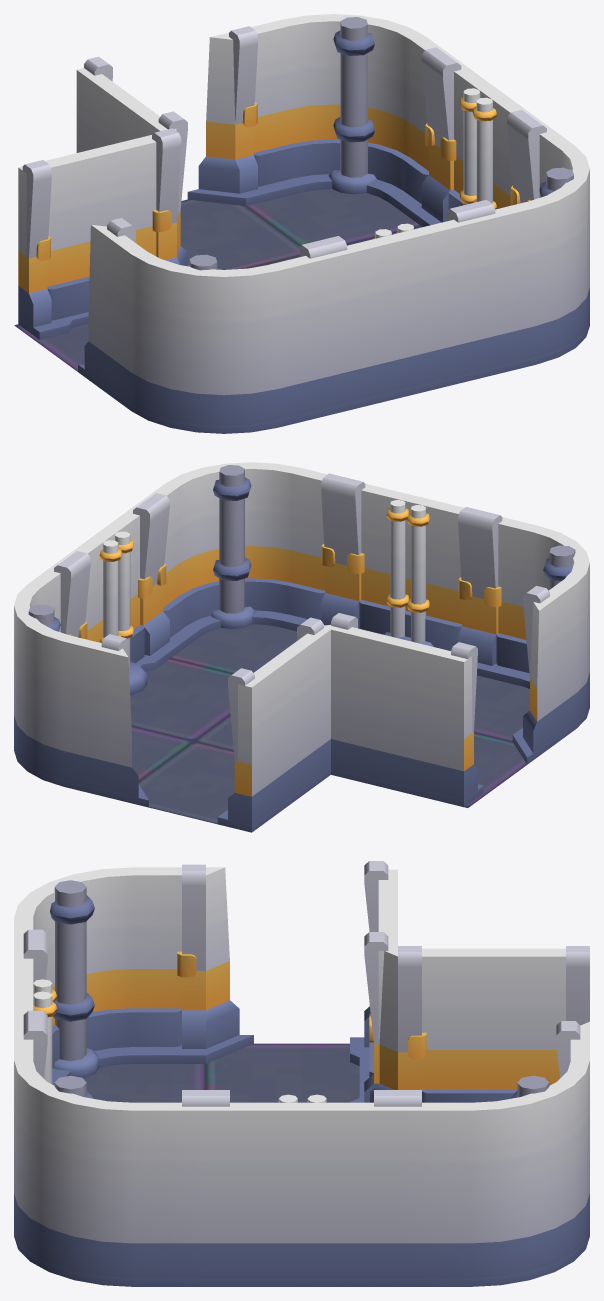
File: room-corner.glb
3 renders of one model, top to bottom at view 1: azimuth 30°, elevation 25°; view 2: azimuth 150°, elevation 25°; view 3: azimuth 270°, elevation 25°, orthographic. The views are drawn at different scales.
Visible parts, largest first — view 1: room-corner; view 2: room-corner; view 3: room-corner.
Boxes of the visible parts, left/top/right/bottom form: room-corner: left=14, top=14, right=589, bottom=433; room-corner: left=14, top=462, right=589, bottom=832; room-corner: left=14, top=861, right=589, bottom=1286.
Bounding box in the file's own units: 12 × 4.25 × 12.
Materials: 1 (1 with a texture image).
